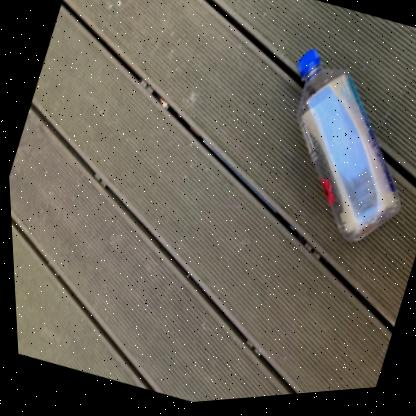Plastic: (294, 53, 397, 247)
